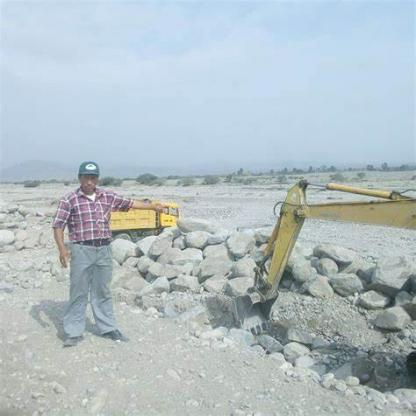person: (43, 151, 168, 356)
